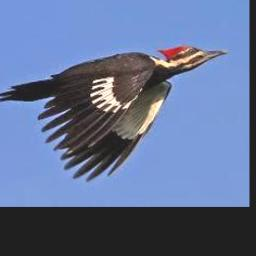Woodpecker: (0, 45, 228, 181)
